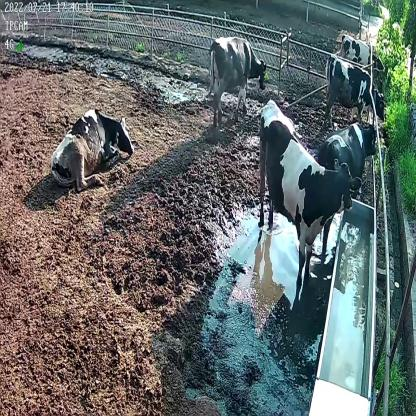cow: (256, 98, 363, 281), (51, 108, 134, 190), (205, 34, 265, 122), (317, 120, 376, 196), (325, 51, 385, 124), (338, 31, 385, 74)
